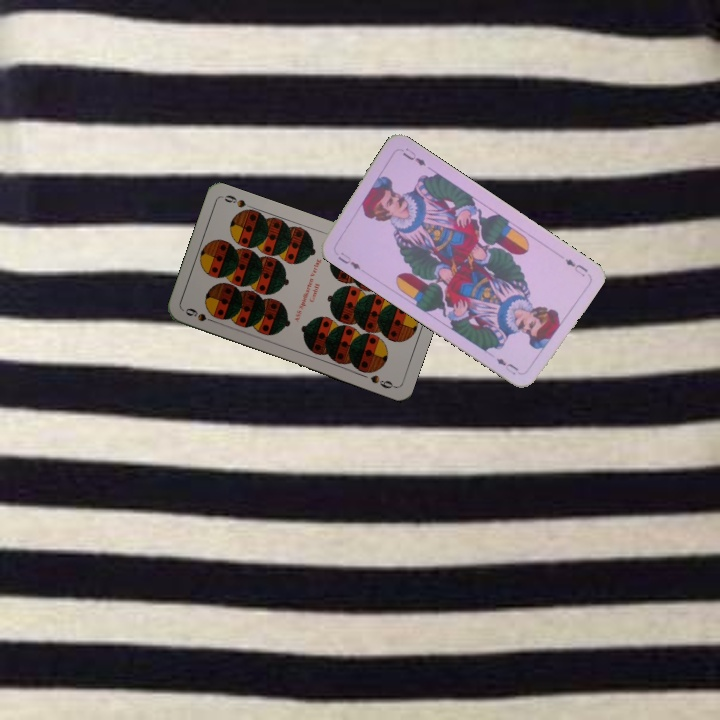EU: (334, 248, 363, 272), (561, 255, 590, 279)
S9: (181, 304, 220, 326)
